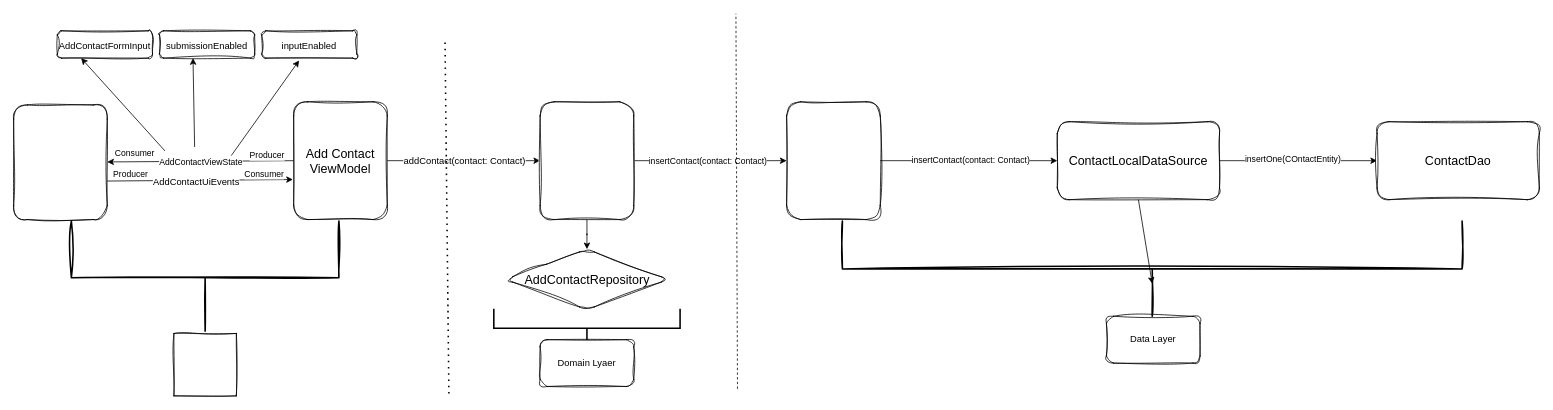
Image size: 1553x410. Some labels were removed from this diagram. Each missing label, with the box of its shape:
Add Contact RepositoryImpl: (786, 101, 880, 220)
Add Contact Screen: (13, 104, 107, 220)
Add Contact UseCase: (539, 101, 634, 220)
Presentation Lyaer: (173, 333, 236, 396)
